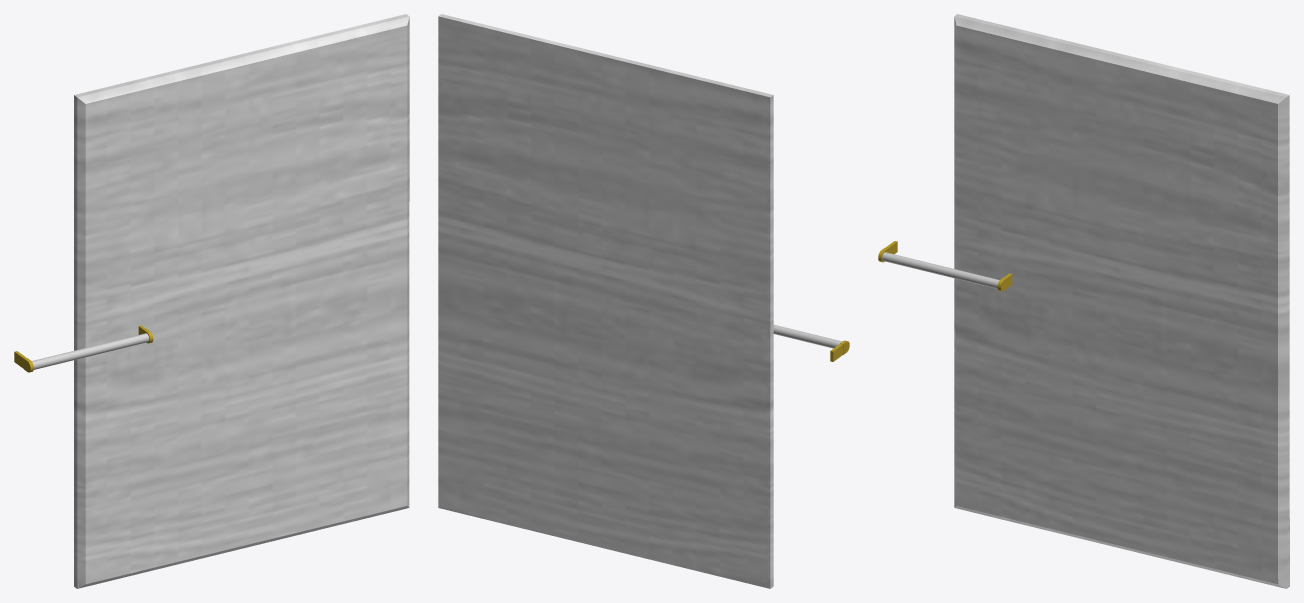
The model's file is Cabinet_93cd2f94.obj.
3 views of the same model, side by side, from view 1: azimuth 30°, elevation 25°; view 2: azimuth 150°, elevation 25°; view 3: azimuth 330°, elevation 25° (orthographic).
Parts seen in each view (by area): view 1: FP407:Door4_5b7d5003, handle_2_178mm_01_0c510bc2; view 2: FP407:Door4_5b7d5003, handle_2_178mm_01_0c510bc2; view 3: FP407:Door4_5b7d5003, handle_2_178mm_01_0c510bc2.
Boxes of the visible parts, left/top/right/bottom form: FP407:Door4_5b7d5003: left=74, top=14, right=409, bottom=588; handle_2_178mm_01_0c510bc2: left=14, top=325, right=153, bottom=372; FP407:Door4_5b7d5003: left=438, top=14, right=773, bottom=588; handle_2_178mm_01_0c510bc2: left=773, top=324, right=849, bottom=361; FP407:Door4_5b7d5003: left=954, top=14, right=1289, bottom=588; handle_2_178mm_01_0c510bc2: left=878, top=241, right=1012, bottom=291.
Bounding box in the file's own units: 0.5711 × 0.6817 × 0.0455.
